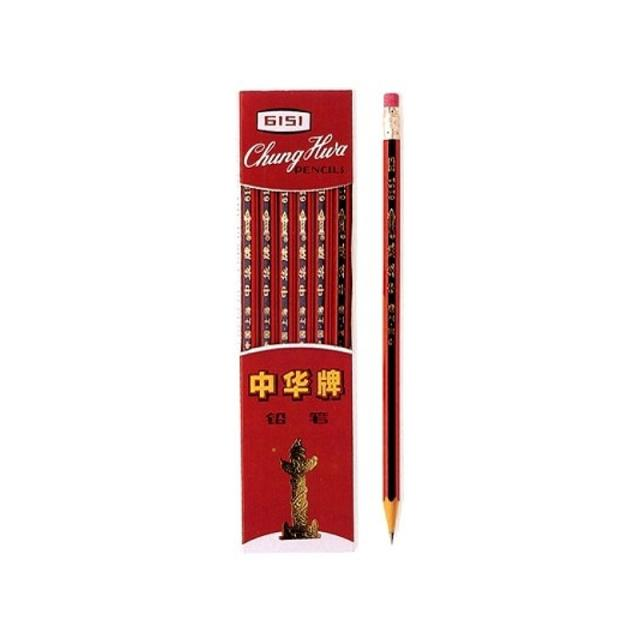pencil: (374, 87, 407, 550)
